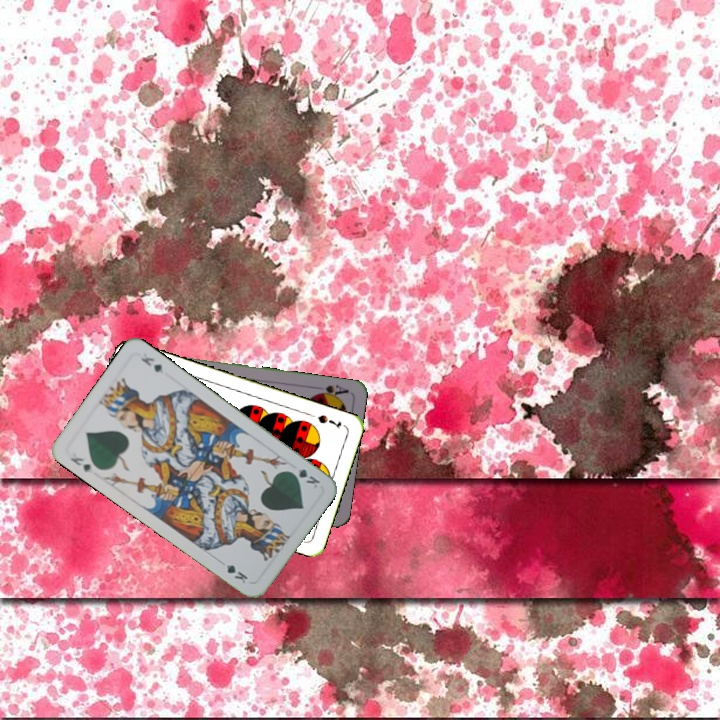GK: (285, 463, 323, 491), (66, 453, 96, 476)
S7: (314, 411, 344, 432)
SA: (310, 380, 351, 401)
